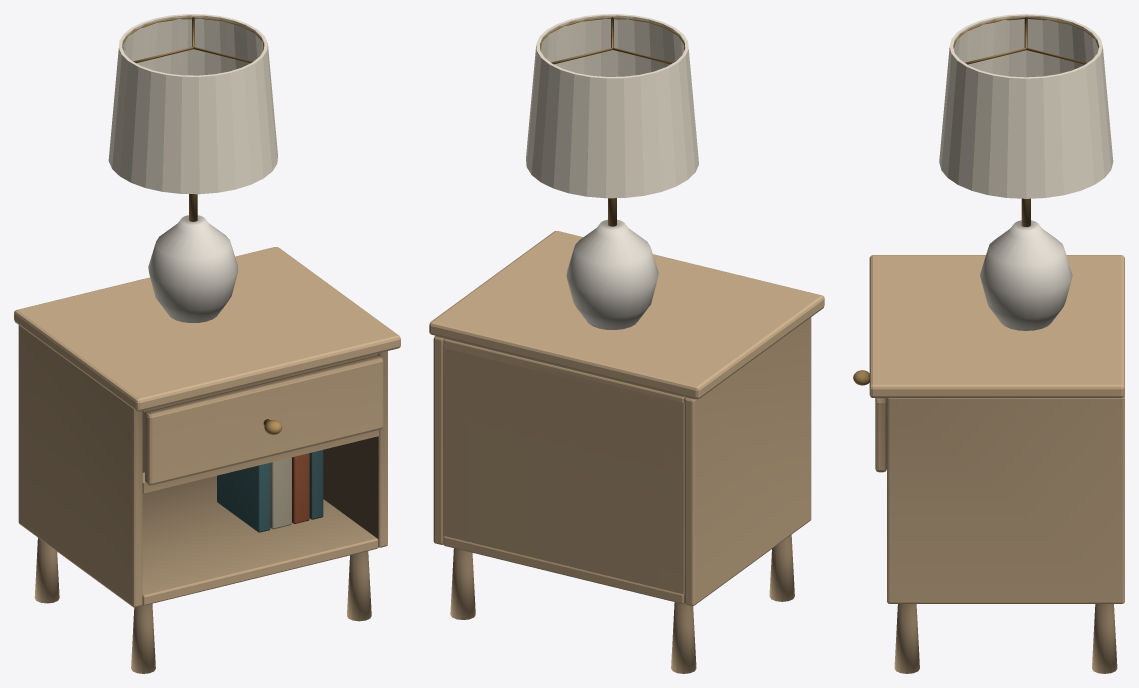
Rendered from nightstandLamp.glb.
The picture shows the model from 3 angles, left to right: view 1: azimuth 30°, elevation 25°; view 2: azimuth 150°, elevation 25°; view 3: azimuth 270°, elevation 25°; orthographic projection. The views are drawn at different scales.
Parts seen in each view (by area): view 1: nightstandLamp; view 2: nightstandLamp; view 3: nightstandLamp.
Part boxes in pixels (x1,y1,x2,y2): nightstandLamp: [14, 14, 400, 673]; nightstandLamp: [429, 14, 824, 673]; nightstandLamp: [853, 14, 1124, 673].
Bounding box in the file's own units: 0.54 × 1.08 × 0.4684.
